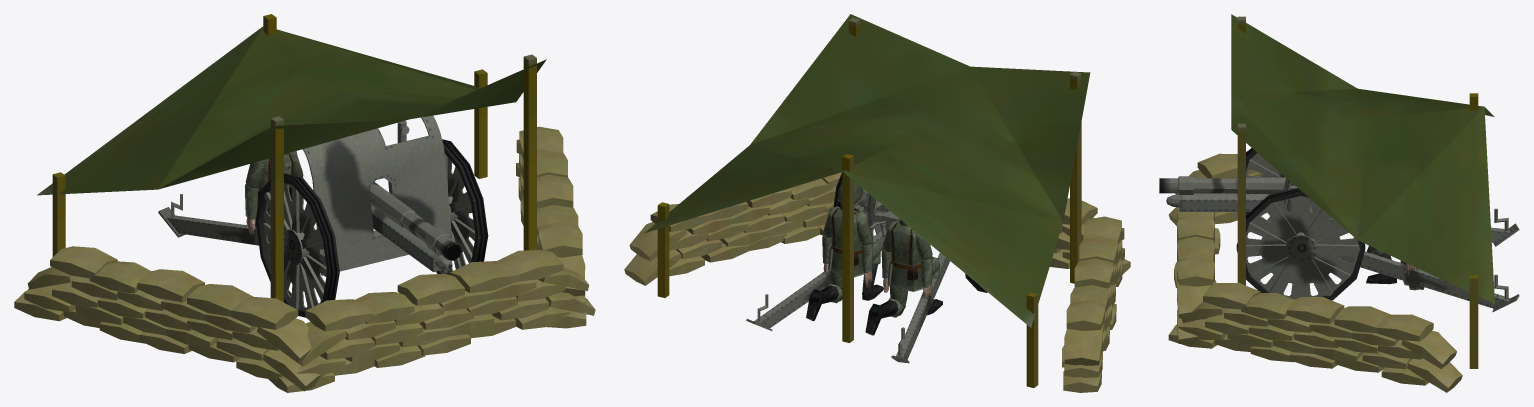
Rendered from SWEKanonM02_33_Stationary.dae.
The picture shows the model from 3 angles, left to right: view 1: azimuth 30°, elevation 25°; view 2: azimuth 150°, elevation 25°; view 3: azimuth 270°, elevation 25°; orthographic projection. The views are drawn at different scales.
Parts seen in each view (by area): view 1: base, turret, wheels, sleeve, barrel, trail2, rloarm1; view 2: base, torso1, trail1, trail2, torso2, wheels, ruparm2, rloarm2; view 3: base, wheels, trail1, sleeve, barrel, trail2.
Boxes of the visible parts, <box> form: base: <box>14,14,595,392</box>; turret: <box>303,115,452,275</box>; wheels: <box>255,139,488,317</box>; sleeve: <box>371,205,452,272</box>; barrel: <box>370,182,461,260</box>; trail2: <box>158,194,258,245</box>; rloarm1: <box>244,184,258,235</box>; base: <box>624,14,1130,392</box>; torso1: <box>887,220,923,291</box>; trail1: <box>746,230,885,330</box>; trail2: <box>891,253,949,363</box>; torso2: <box>828,205,864,277</box>; wheels: <box>833,172,987,292</box>; ruparm2: <box>856,211,872,245</box>; rloarm2: <box>861,242,873,287</box>; base: <box>1168,14,1494,392</box>; wheels: <box>1236,148,1365,300</box>; trail1: <box>1339,251,1519,311</box>; sleeve: <box>1166,176,1316,211</box>; barrel: <box>1159,177,1291,193</box>; trail2: <box>1330,208,1519,246</box>.
Size of the model in its own units: 46.2 by 30.73 by 19.82.
